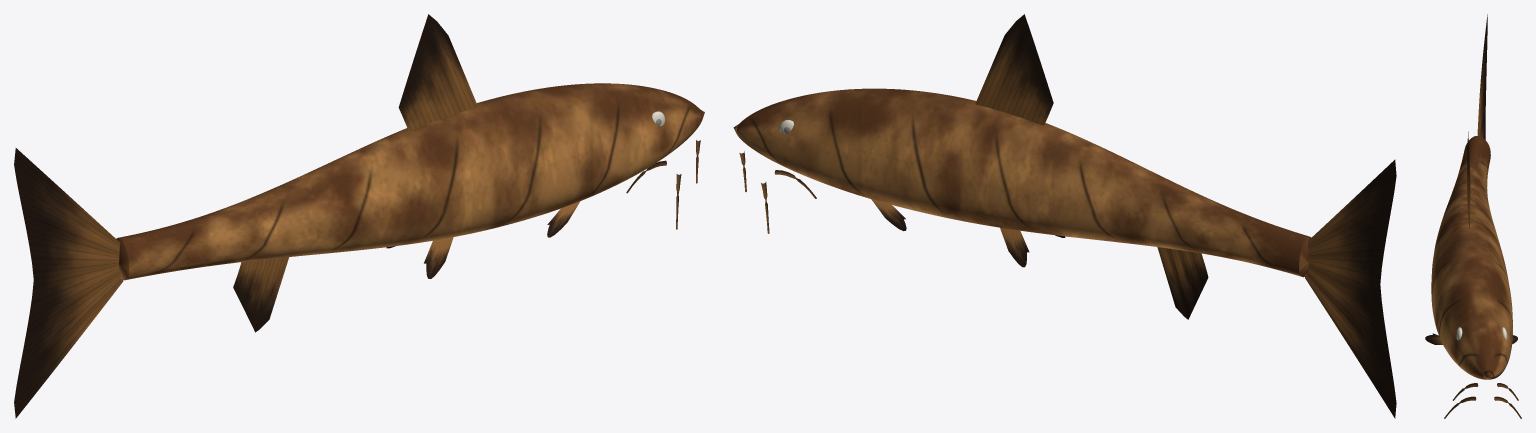
Rendered from fish_barbel_cooked.gltf.
3 renders of one model, left to right at view 1: azimuth 30°, elevation 25°; view 2: azimuth 150°, elevation 25°; view 3: azimuth 270°, elevation 25°, orthographic. The views are drawn at different scales.
Parts seen in each view (by area): view 1: fish_barbel_cooked; view 2: fish_barbel_cooked; view 3: fish_barbel_cooked.
Boxes of the visible parts, x1=… form: fish_barbel_cooked: x1=14, y1=14, x2=704, y2=418; fish_barbel_cooked: x1=733, y1=14, x2=1396, y2=418; fish_barbel_cooked: x1=1425, y1=14, x2=1521, y2=418.
Size of the model in its own units: 0.493 by 0.2155 by 0.0774.
Materials: 7 (4 with a texture image).
